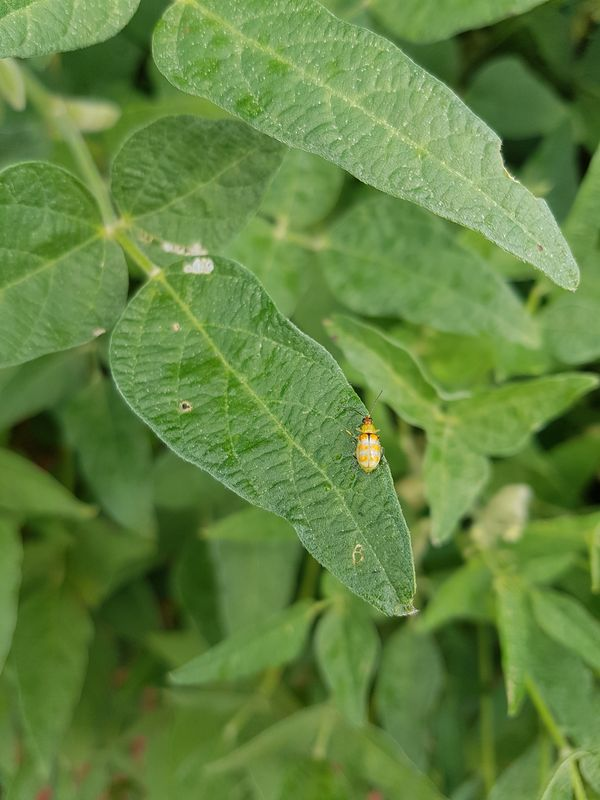Diabrotica_speciosa: (335, 411, 396, 478)
